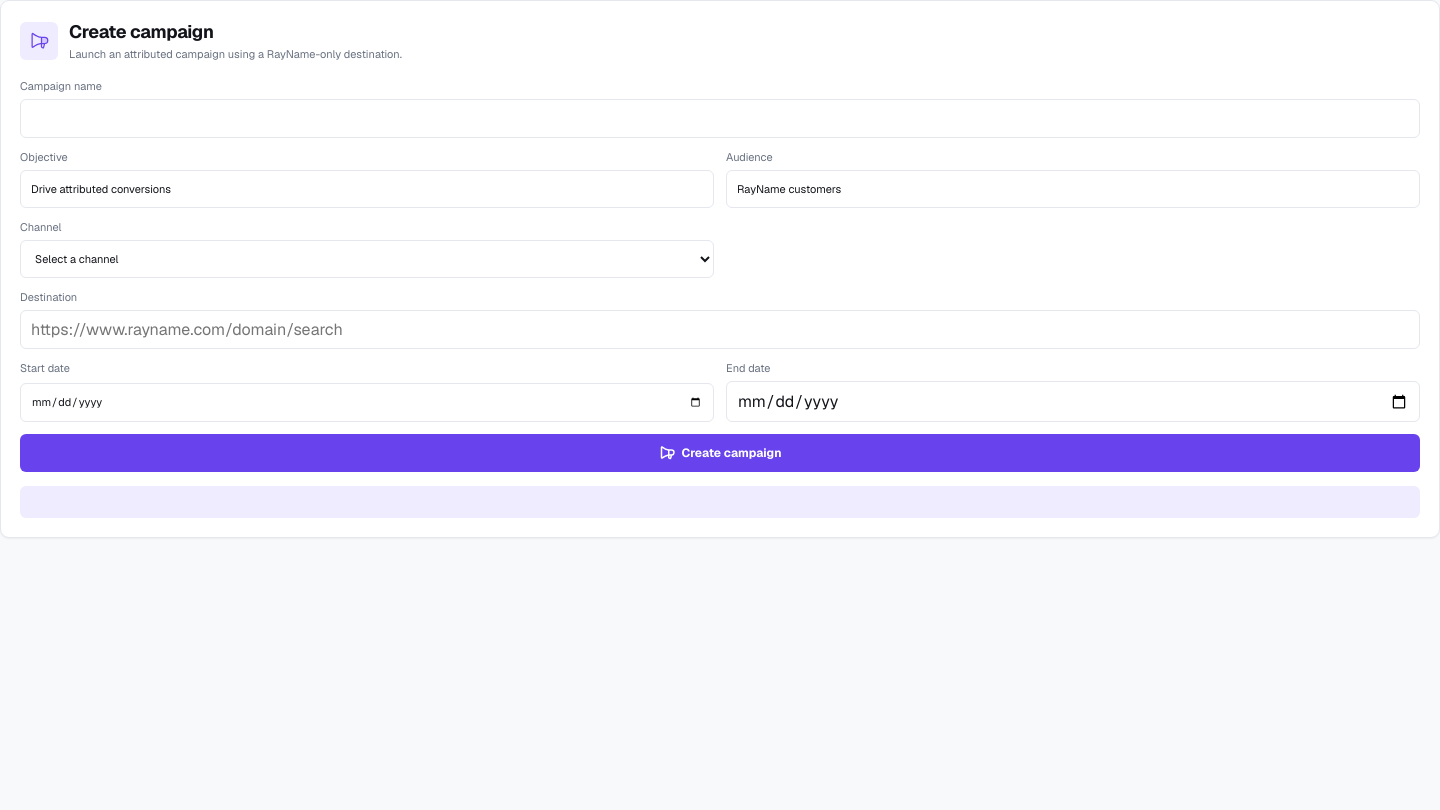
it: rejects an end date before the start date and focuses the end date
The image size is (1440, 810).
Type "Backwards campaign" into the field labelled "Campaign name". click: (720, 118)
box: x1=20 y1=99 x2=1420 y2=138
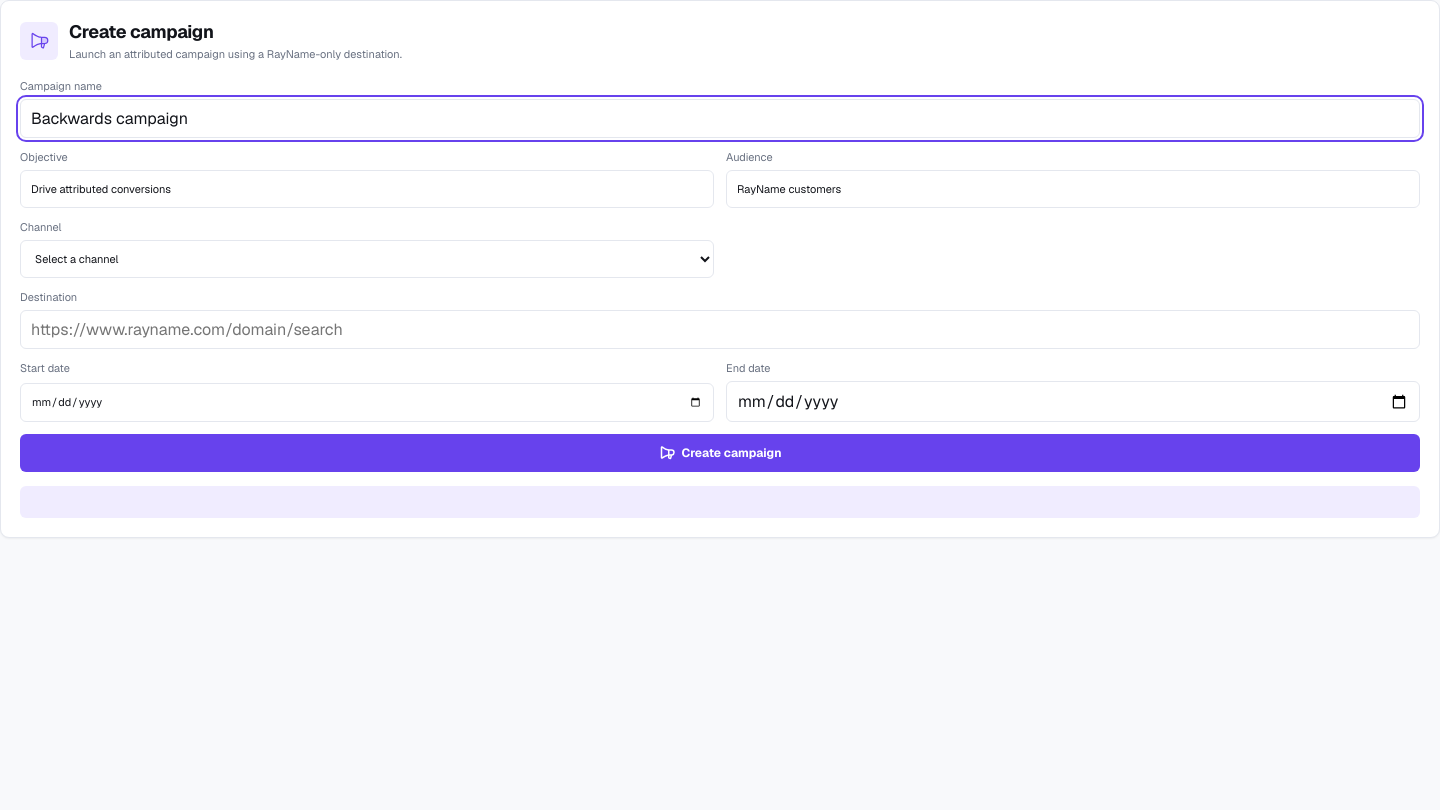
Select "Email" in the dropdown labelled "Channel". click: (367, 259)
box: x1=20 y1=240 x2=714 y2=278
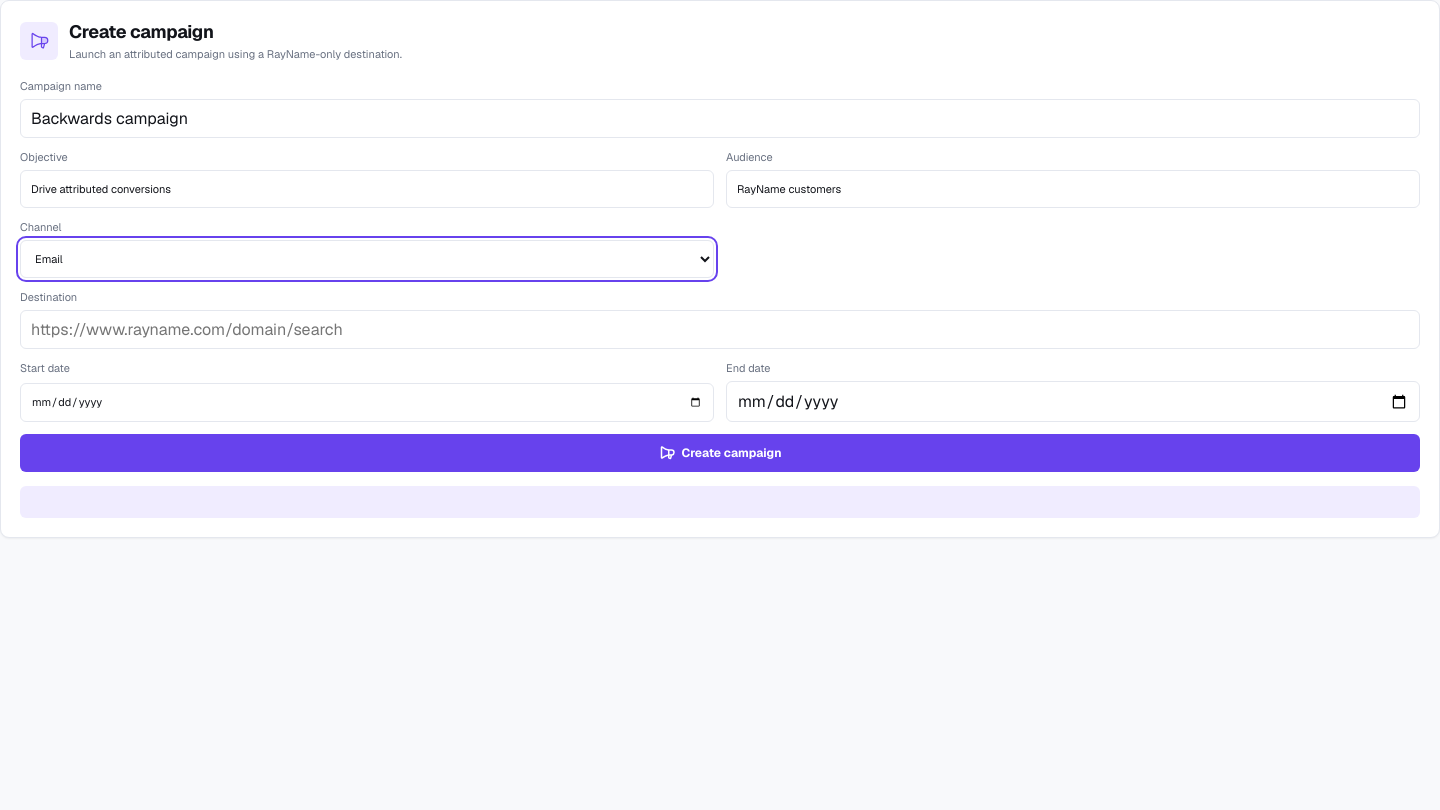
Type "https://rayname.com/account/renewals" into the field labelled "Destination". click: (720, 330)
box: x1=20 y1=310 x2=1420 y2=349
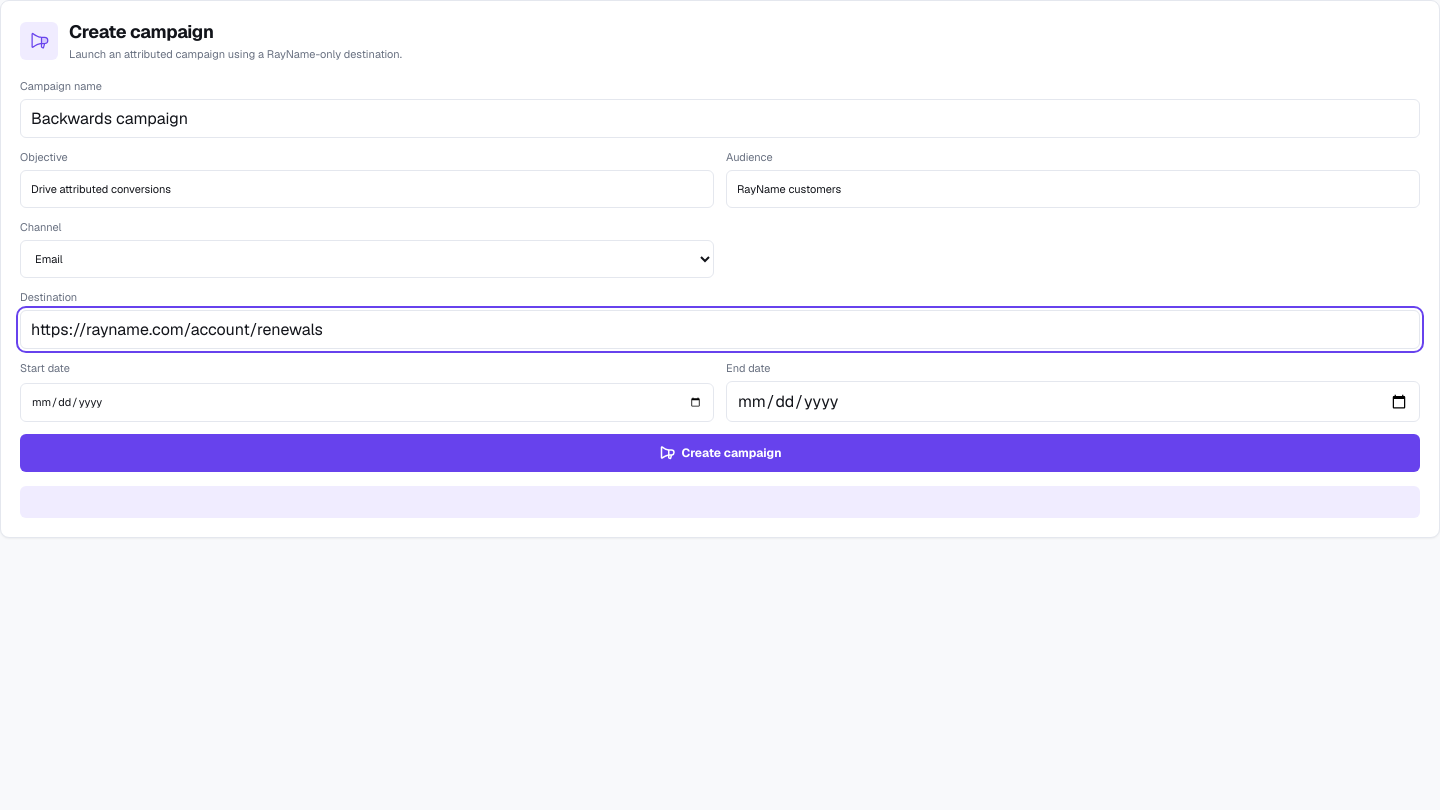
Type "2026-09-06" into the date field labelled "Start date". click: (367, 402)
box: x1=20 y1=382 x2=714 y2=422
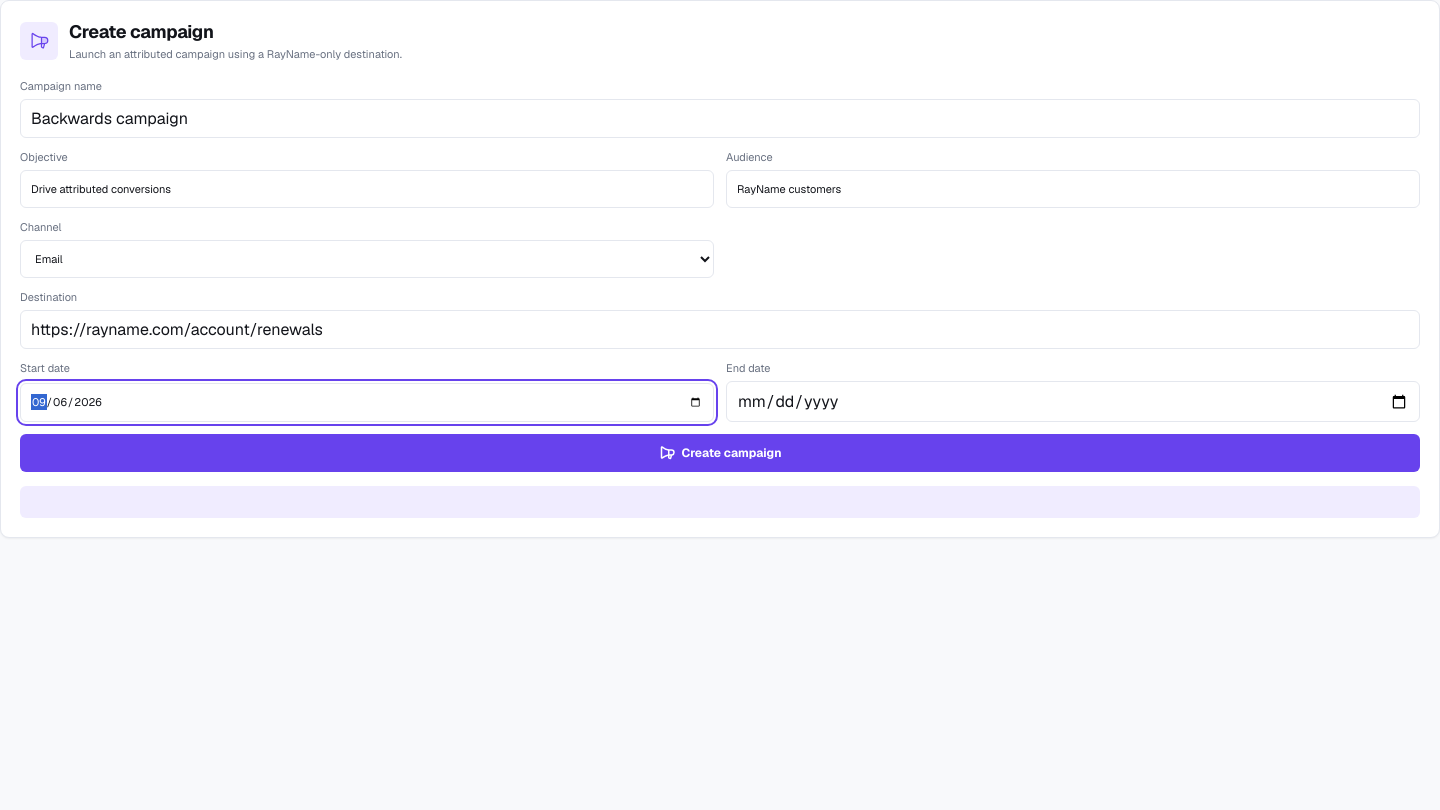
Type "2026-08-23" into the date field labelled "End date". click: (1073, 402)
box: x1=726 y1=381 x2=1420 y2=422
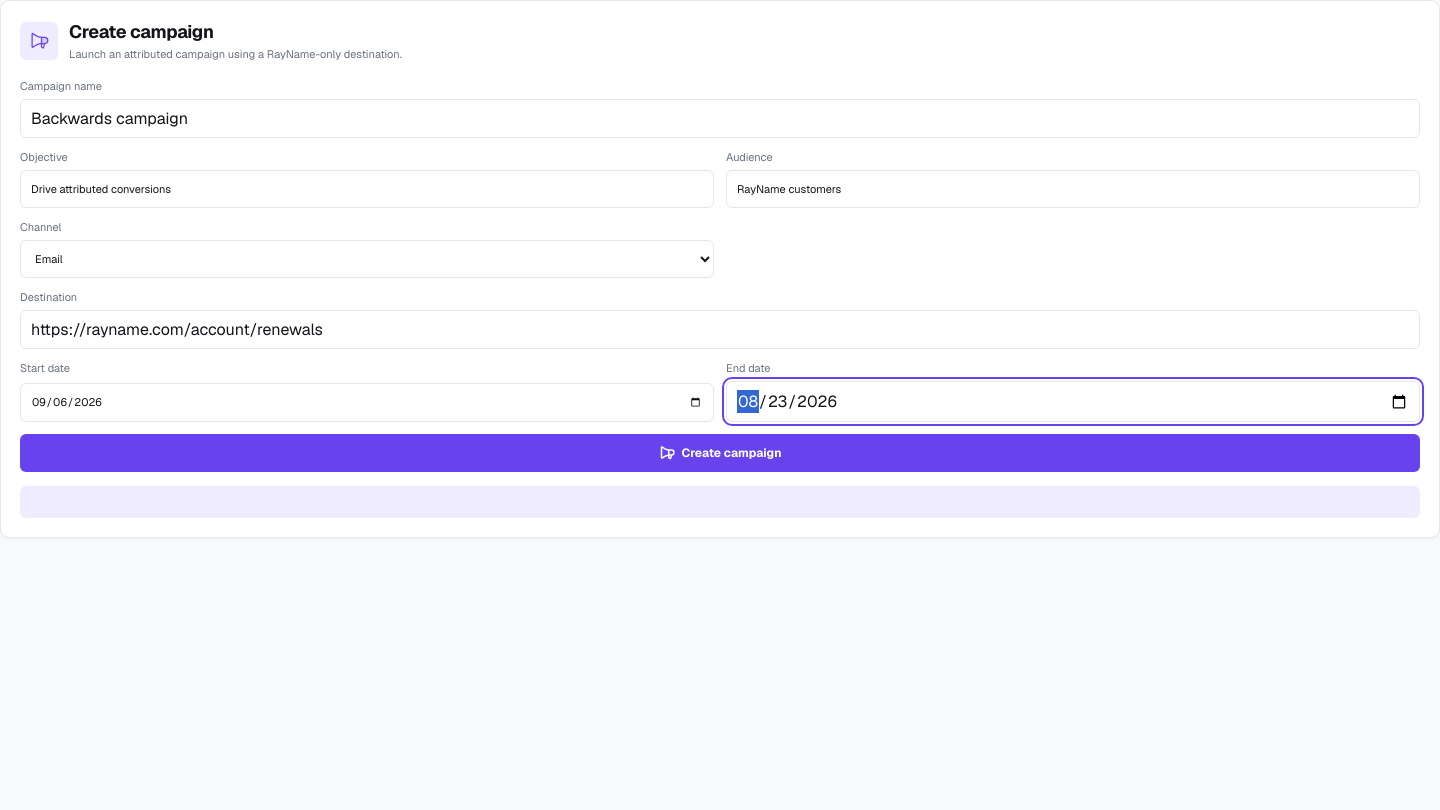
Click the button "Create campaign". click: (720, 453)
box: x1=20 y1=434 x2=1420 y2=472
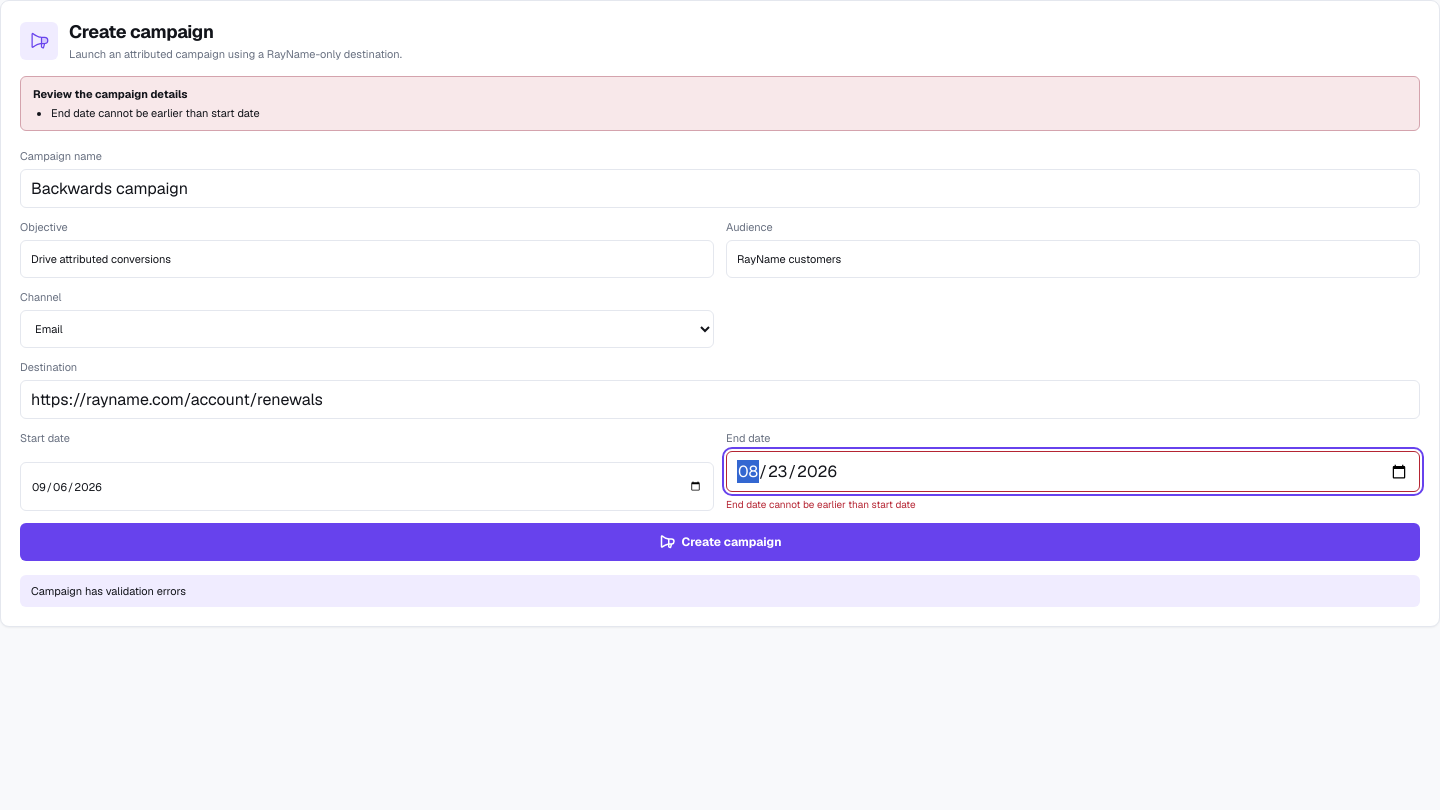
Check: the message "Review the campaign details End date cannot be earlier than start date" is shown, box x1=20 y1=76 x2=1420 y2=131
